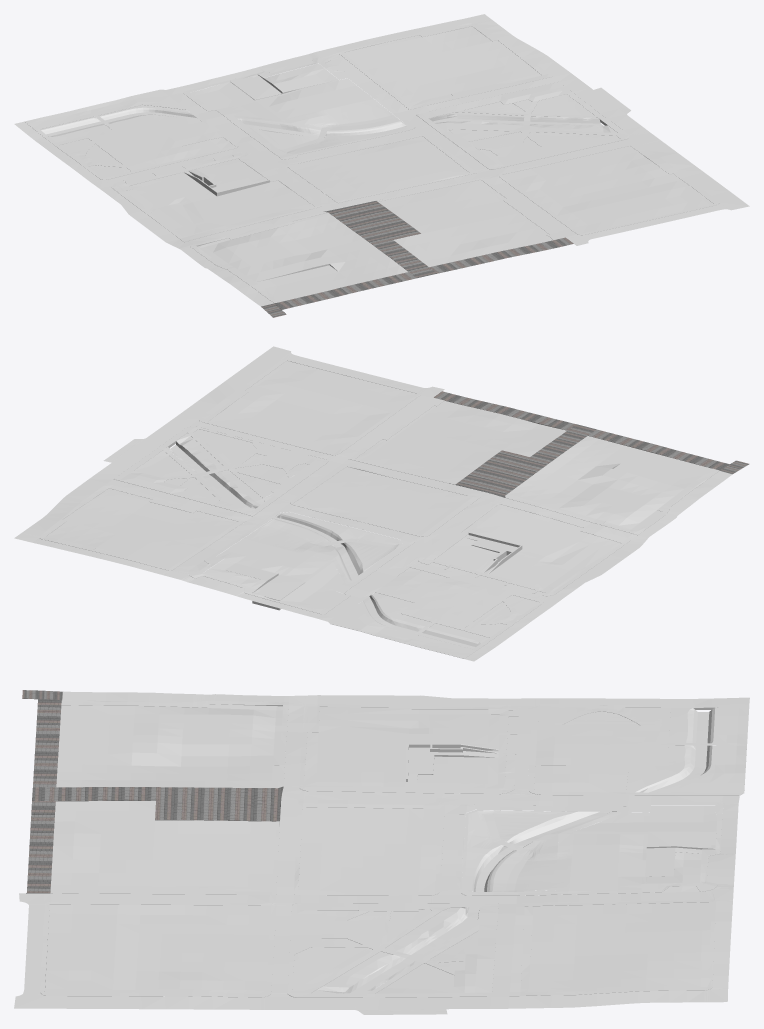
The model's file is ysi_streets.dae.
3 views of the same model, one above another, from view 1: azimuth 30°, elevation 25°; view 2: azimuth 150°, elevation 25°; view 3: azimuth 270°, elevation 25° (orthographic). The views are drawn at different scales.
Visible parts, largest first — view 1: innerCourtyards, cobblestoneStreet, sidewalk, lawn, rotuaari, cityhallTiling, water; view 2: innerCourtyards, cobblestoneStreet, sidewalk, lawn, rotuaari, cityhallTiling, water; view 3: innerCourtyards, cobblestoneStreet, sidewalk, lawn, rotuaari, cityhallTiling, water.
Boxes of the visible parts, left/top/right/bottom form: innerCourtyards: left=125, top=26, right=713, bottom=301; cobblestoneStreet: left=14, top=14, right=749, bottom=306; sidewalk: left=24, top=23, right=719, bottom=303; lawn: left=40, top=94, right=620, bottom=177; rotuaari: left=261, top=201, right=573, bottom=317; cityhallTiling: left=57, top=115, right=222, bottom=171; water: left=46, top=112, right=603, bottom=136; innerCourtyards: left=47, top=361, right=711, bottom=610; cobblestoneStreet: left=14, top=346, right=732, bottom=661; sidewalk: left=39, top=359, right=719, bottom=658; lawn: left=134, top=429, right=538, bottom=649; rotuaari: left=434, top=391, right=749, bottom=497; cityhallTiling: left=375, top=576, right=522, bottom=637; water: left=170, top=445, right=475, bottom=648; innerCourtyards: left=45, top=704, right=716, bottom=992; cobblestoneStreet: left=14, top=691, right=749, bottom=1014; sidewalk: left=40, top=700, right=749, bottom=997; lawn: left=292, top=707, right=718, bottom=993; rotuaari: left=22, top=690, right=283, bottom=893; cityhallTiling: left=535, top=707, right=716, bottom=792; water: left=350, top=712, right=709, bottom=993.
Bounding box in the file's own units: 345 × 333 × 9.
Materials: 7 (1 with a texture image).
